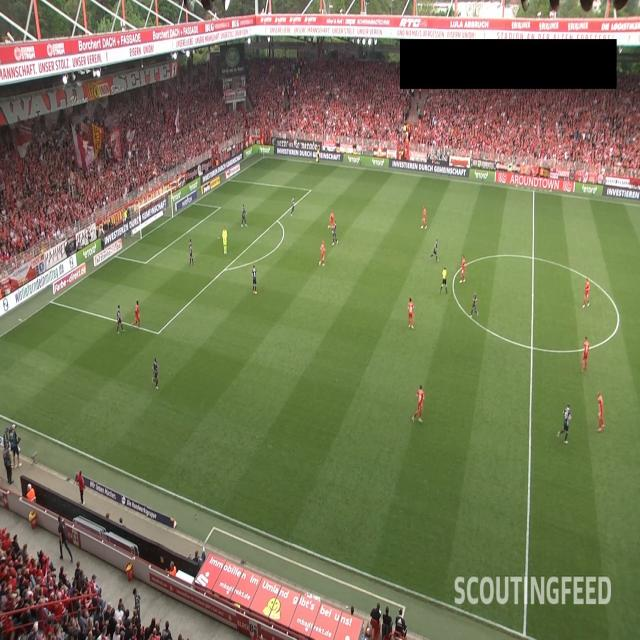ball: (224, 236, 227, 242)
